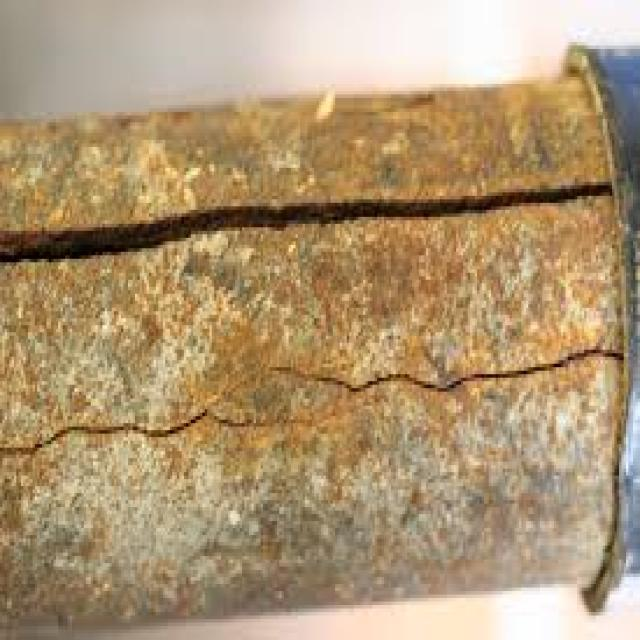crack: (1, 345, 636, 455), (0, 183, 623, 265)
